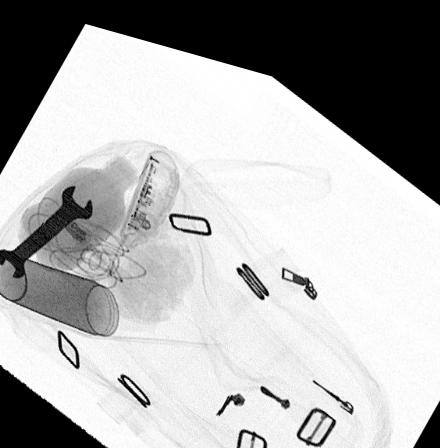Wrench: (0, 179, 94, 278)
